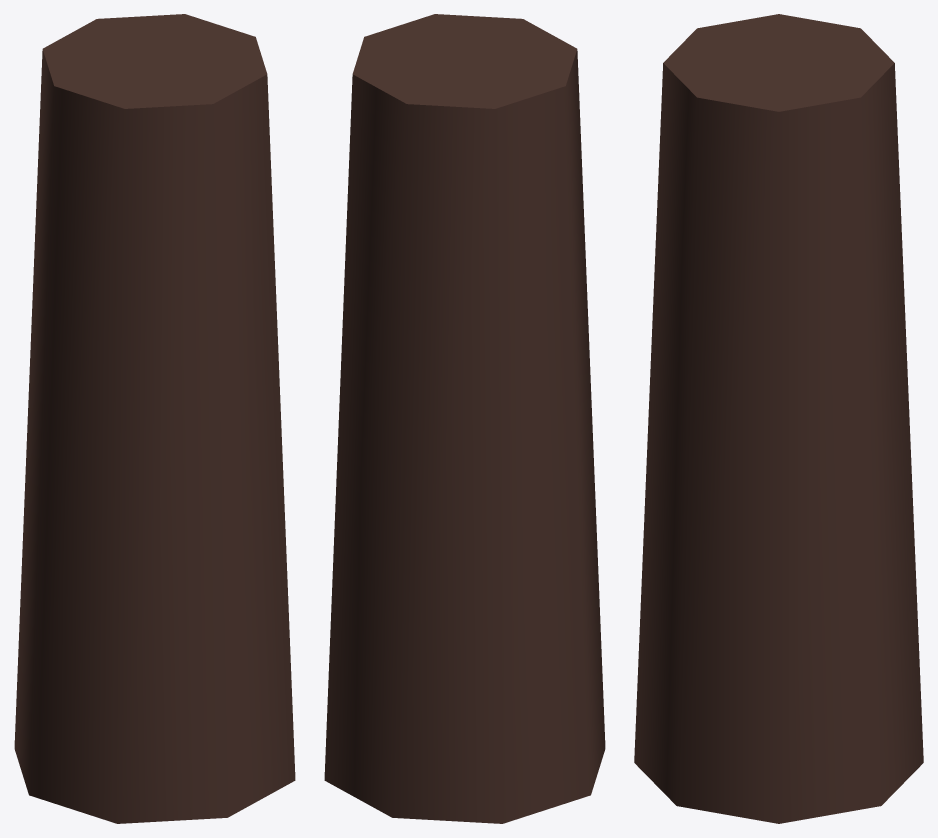
Rendered from wooden-bollard-authored-vertex-colour-tripo-finish.glb.
3 views of the same model, side by side, from view 1: azimuth 30°, elevation 25°; view 2: azimuth 150°, elevation 25°; view 3: azimuth 270°, elevation 25° (orthographic).
Visible parts, largest first — view 1: Authored_surface_002; view 2: Authored_surface_002; view 3: Authored_surface_002.
Part boxes in pixels (x1=…): Authored_surface_002: x1=14, y1=14, x2=295, y2=823; Authored_surface_002: x1=324, y1=14, x2=605, y2=823; Authored_surface_002: x1=634, y1=14, x2=923, y2=823.
Size of the model in its own units: 0.375 by 1 by 0.375.
